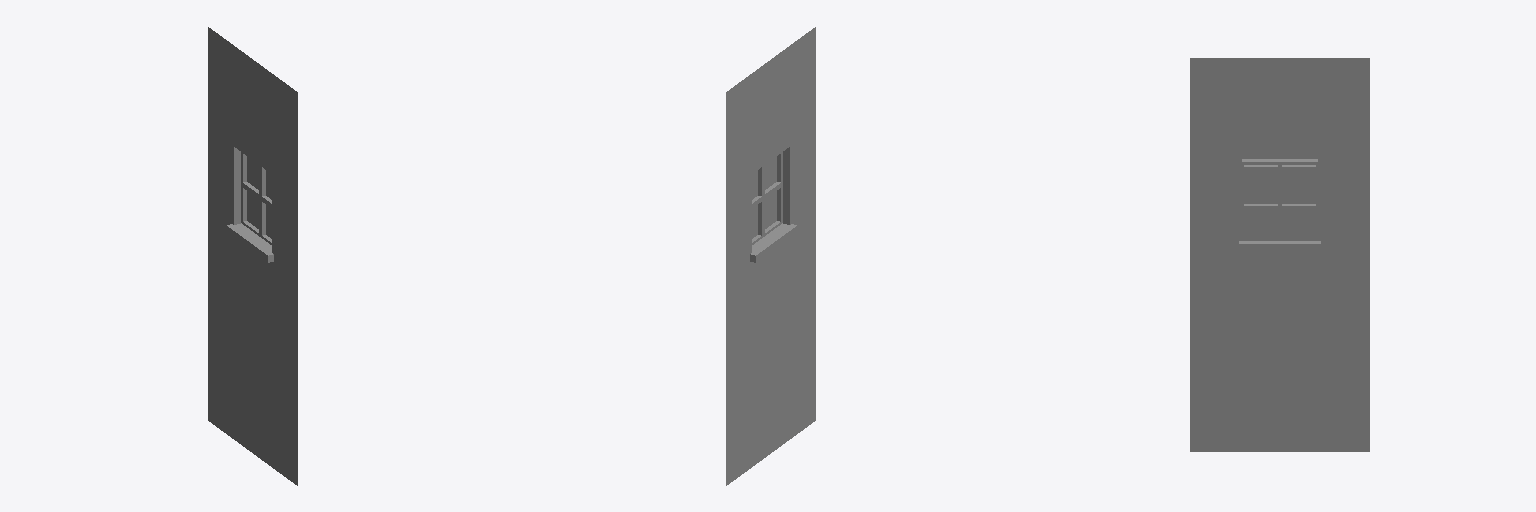
Rendered from Window2.obj.
The picture shows the model from 3 angles: view 1: azimuth 30°, elevation 25°; view 2: azimuth 150°, elevation 25°; view 3: azimuth 270°, elevation 25°; orthographic projection.
Visible parts, largest first — view 1: Window2; view 2: Window2; view 3: Window2.
Part boxes in pixels (x1,y1,x2,y2): Window2: (208,27,297,485); Window2: (726,27,815,485); Window2: (1190,58,1369,451).
Size of the model in its own units: 0.139 by 3 by 1.25.